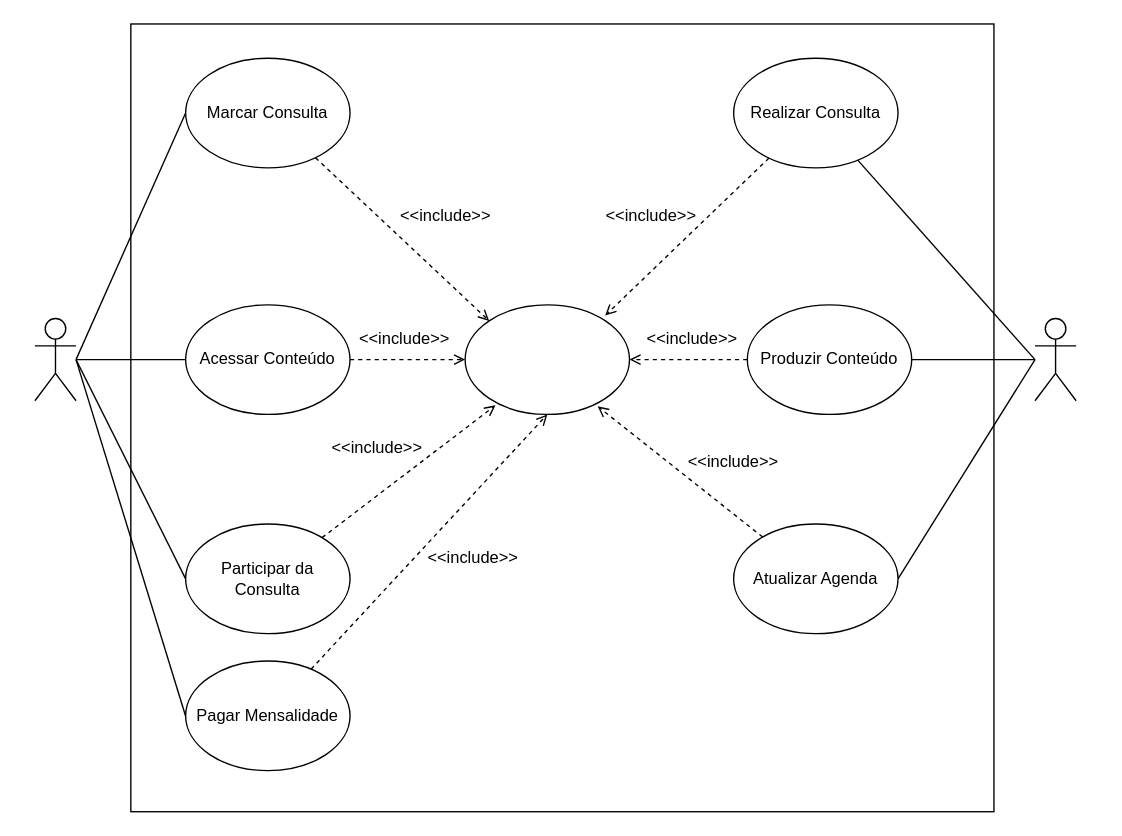
Image size: 1122x836. Some labels were removed from this diagram. The shapes that lost their labels are listed below. From the top down, each one's centre as x and y in pixels, then its label:
point 55,359: Paciente
point 547,358: Fazer Login
point 1055,359: Profissional
